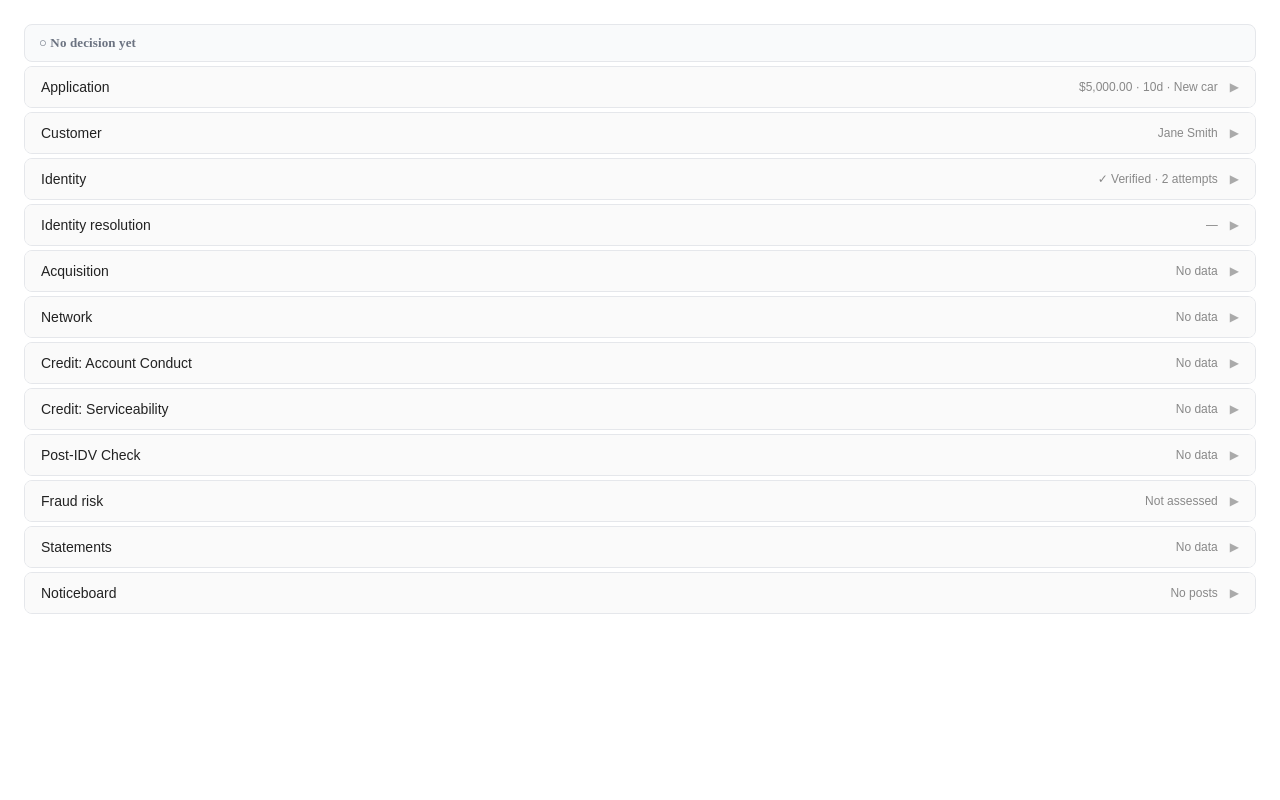
AssessmentPanel — identity summary › counts the attempts behind a verified decision (spec 2026-09-15)
Expected: the text "✓ Verified · 2 attempts" is shown, [1098, 172, 1218, 186]
Click the button "Identity ✓ Verified · 2 attempts ▶" at point(64, 179), box [25, 159, 1255, 199]
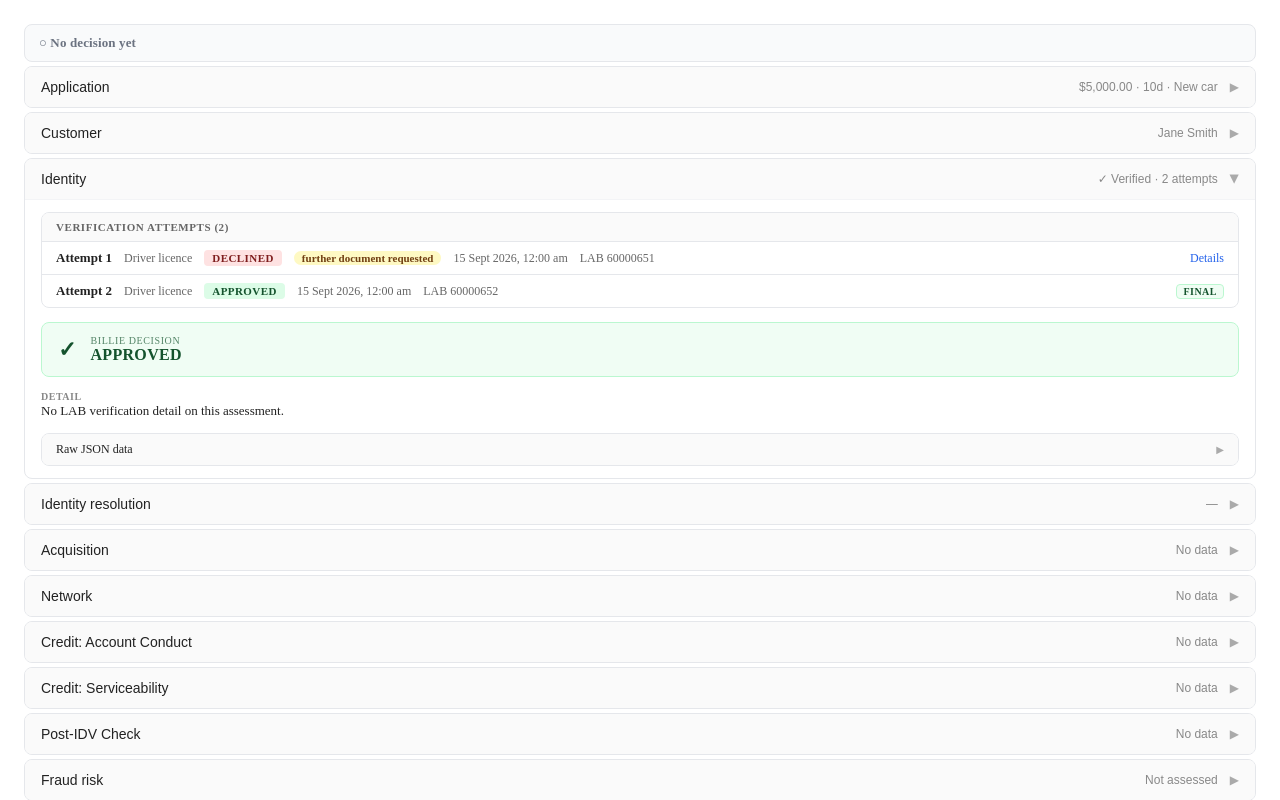
Now the element with test id "identity-attempts" is shown, box [41, 212, 1239, 308]
